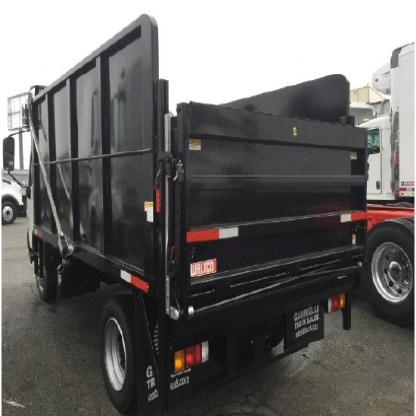dump_truck: (14, 8, 374, 414)
